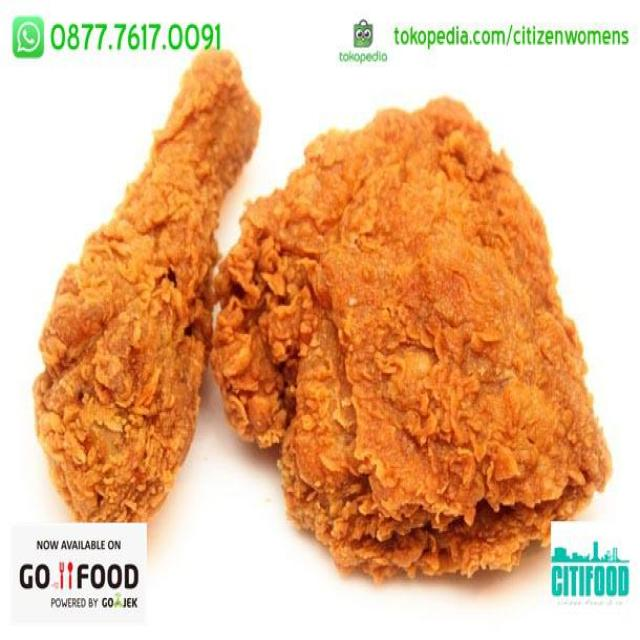Frango: (214, 98, 615, 584), (31, 48, 262, 535)
